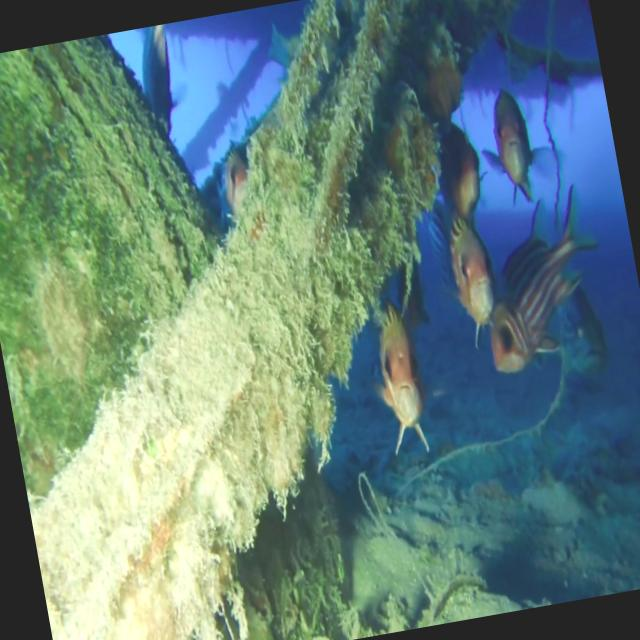Asker Baligi: (461, 178, 617, 378), (359, 296, 434, 460)
